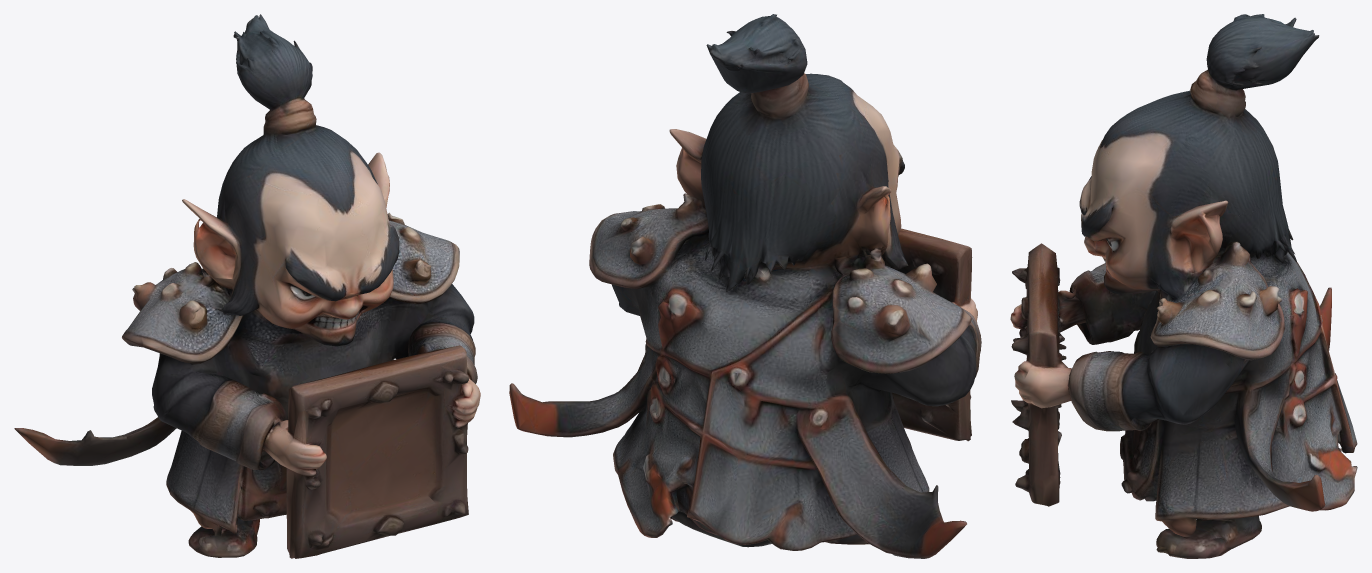
The model's file is shield-brute.glb.
The picture shows the model from 3 angles, left to right: view 1: azimuth 30°, elevation 25°; view 2: azimuth 150°, elevation 25°; view 3: azimuth 270°, elevation 25°; orthographic projection. The views are drawn at different scales.
Bounding box in the file's own units: 1.87 × 2 × 1.31.
Materials: 1 (1 with a texture image).
